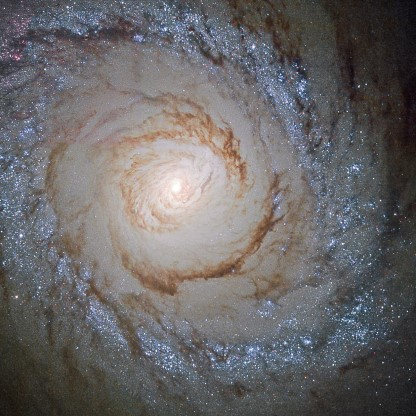Messier 94: (10, 5, 395, 396)
